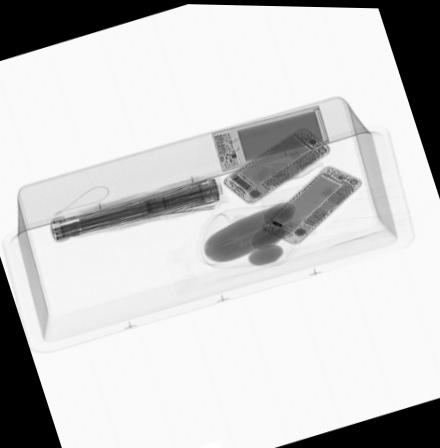Powerbank: (209, 101, 332, 173)
